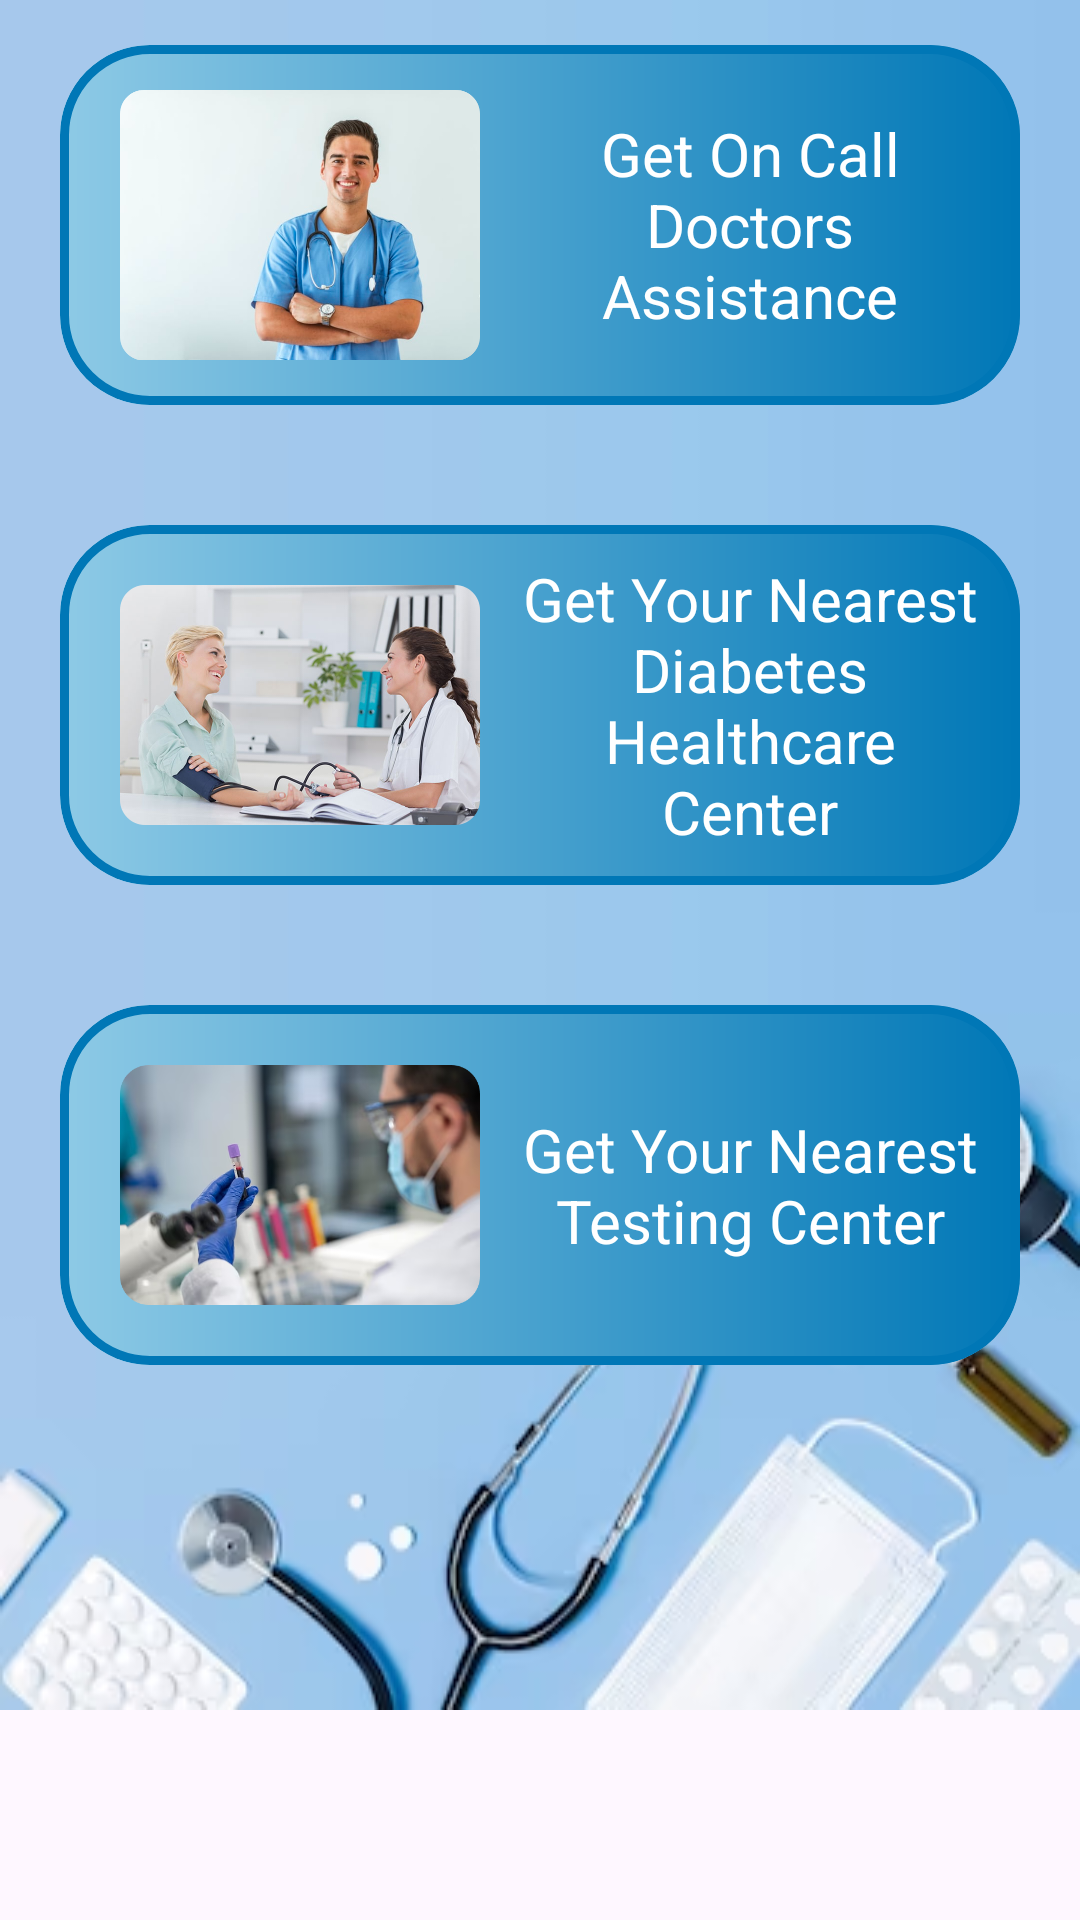

Named icons in this screenshot (1080w x 1920h) and their centers, (x=x, y=y):
doctor assistance expm: (x=300, y=225)
health care center expm: (x=300, y=705)
lab testing expm: (x=300, y=1185)
